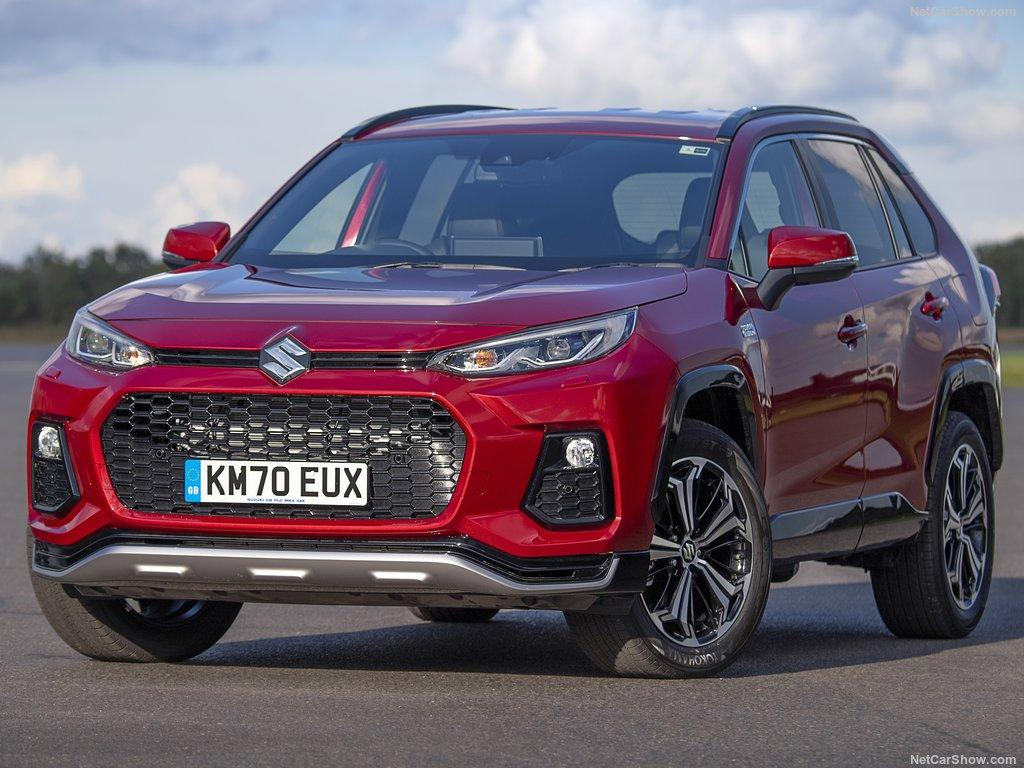windshield: (196, 134, 736, 288)
